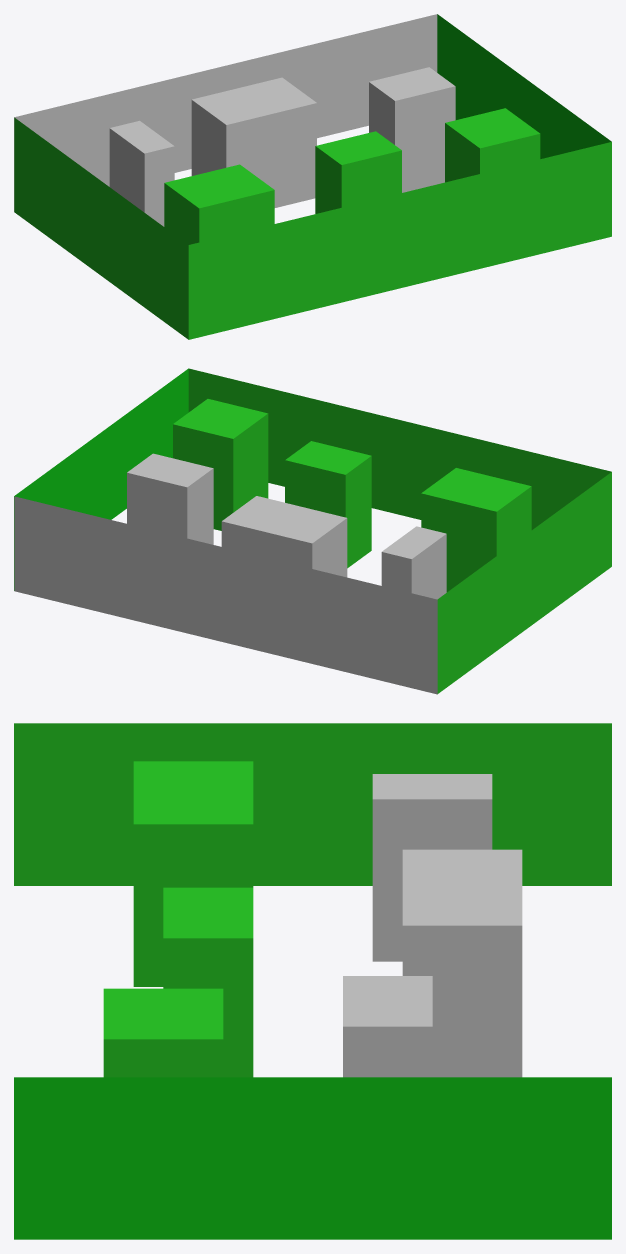
Rendered from map_mini.obj.
3 views of the same model, one above another, from view 1: azimuth 30°, elevation 25°; view 2: azimuth 150°, elevation 25°; view 3: azimuth 270°, elevation 25° (orthographic). The views are drawn at different scales.
Parts seen in each view (by area): view 1: 平面.003, 平面, 平面.002, 立方体.001, 平面.001, 立方体.002, 立方体.006, 立方体.005, 立方体.004, 立方体.003; view 2: 平面, 平面.003, 平面.002, 平面.001, 立方体.006, 立方体.004, 立方体.001, 立方体.005, 立方体.002, 立方体.003; view 3: 平面.001, 平面.002, 立方体.001, 立方体.006, 立方体.003, 立方体.005, 立方体.004, 立方体.002.
Boxes of the visible parts, x1,y1,x2,y2 form: 平面.003: (188,142,611,339); 平面: (14,14,437,211); 平面.002: (14,117,188,339); 立方体.001: (191,77,316,207); 平面.001: (437,14,611,158); 立方体.002: (369,67,455,192); 立方体.006: (164,164,274,244); 立方体.005: (315,131,401,213); 立方体.004: (445,108,540,182); 立方体.003: (109,120,174,226); 平面: (14,496,437,694); 平面.003: (188,368,611,529); 平面.002: (437,472,611,693); 平面.001: (14,368,188,590); 立方体.006: (421,468,531,592); 立方体.004: (173,399,268,530); 立方体.001: (221,496,347,577); 立方体.005: (285,441,371,568); 立方体.002: (127,453,213,544); 立方体.003: (381,526,446,599); 平面.001: (14,1077,611,1239); 平面.002: (14,723,611,885); 立方体.001: (402,849,522,1077); 立方体.006: (133,761,253,986); 立方体.003: (372,774,492,961); 立方体.005: (163,887,253,1077); 立方体.004: (103,988,223,1077); 立方体.002: (343,976,432,1077).
Size of the model in its own units: 280 by 60 by 200.
